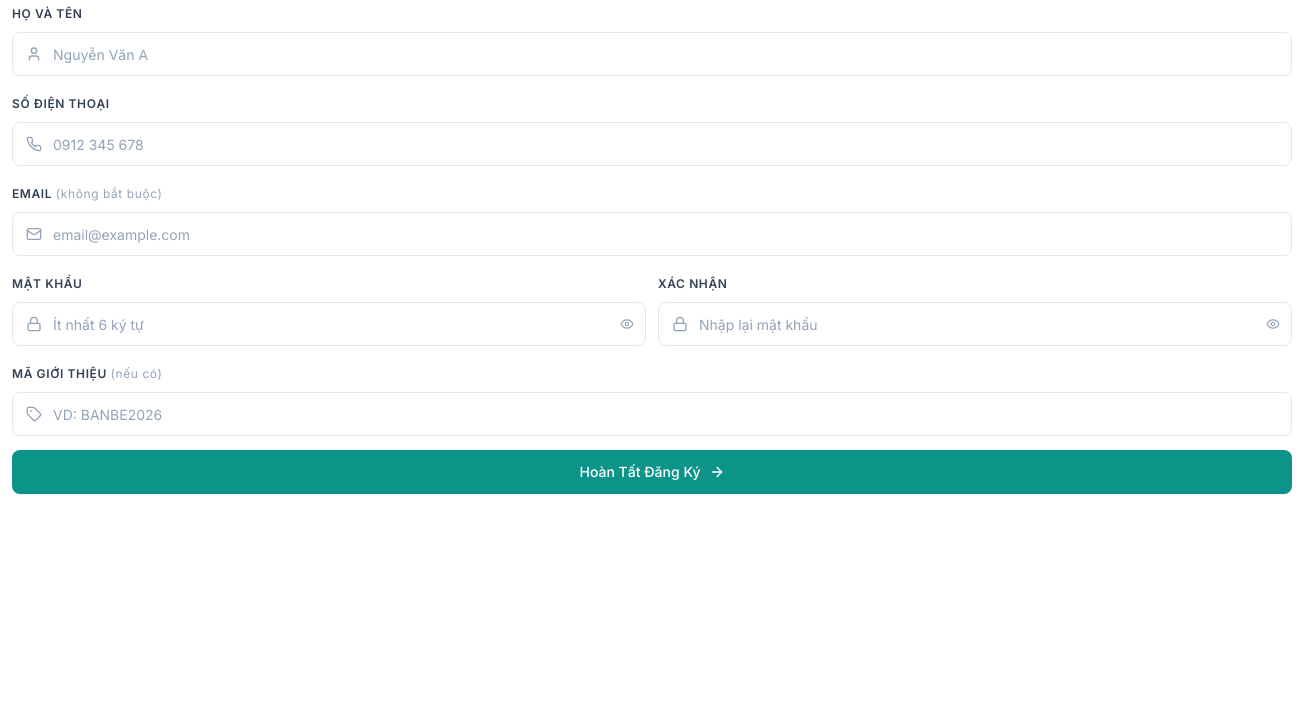
Test: RegisterForm › toggles password visibility between password and text types
Expected: the 1st icon with class "lucide-eye" is shown, x1=620 y1=317 x2=634 y2=331
Click the 1st button named "Hiện mật khẩu". click: (633, 324)
box: x1=620 y1=302 x2=646 y2=346
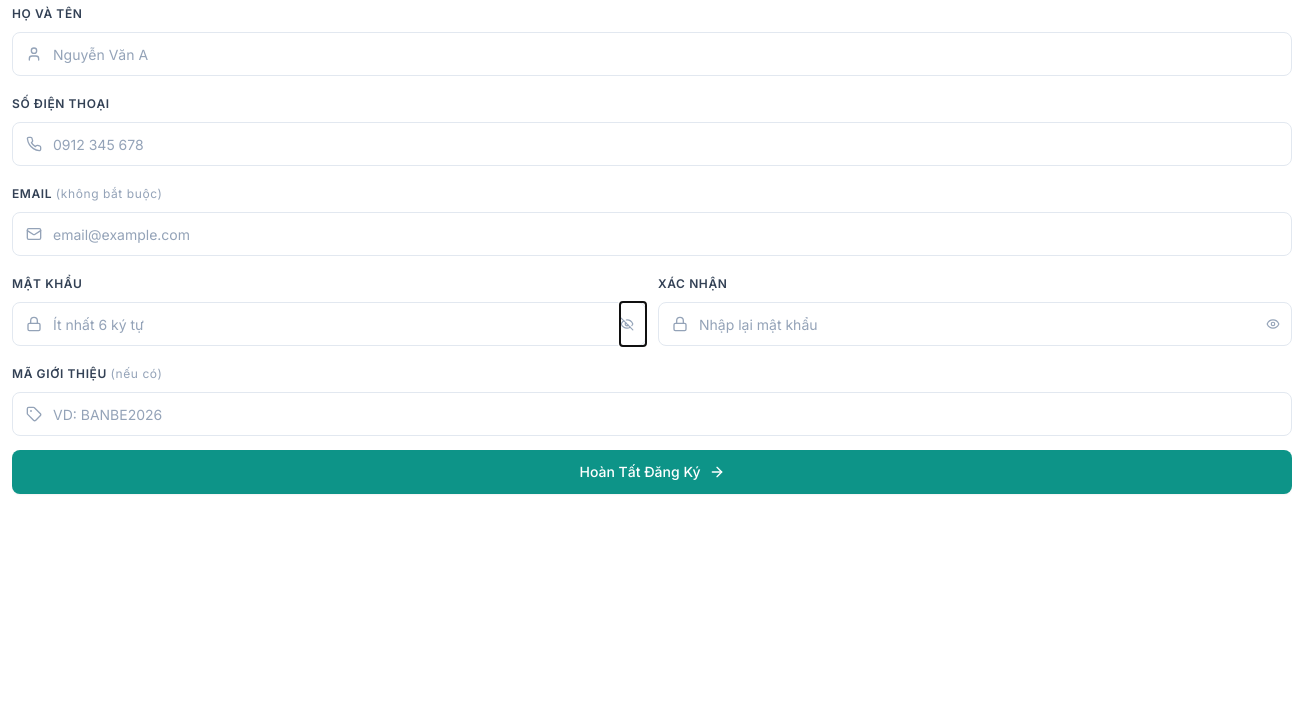
Expected: the icon with class "lucide-eye-off" is shown, x1=620 y1=317 x2=634 y2=331
Click the button named "Ẩn mật khẩu". click: (633, 324)
box: x1=620 y1=302 x2=646 y2=346
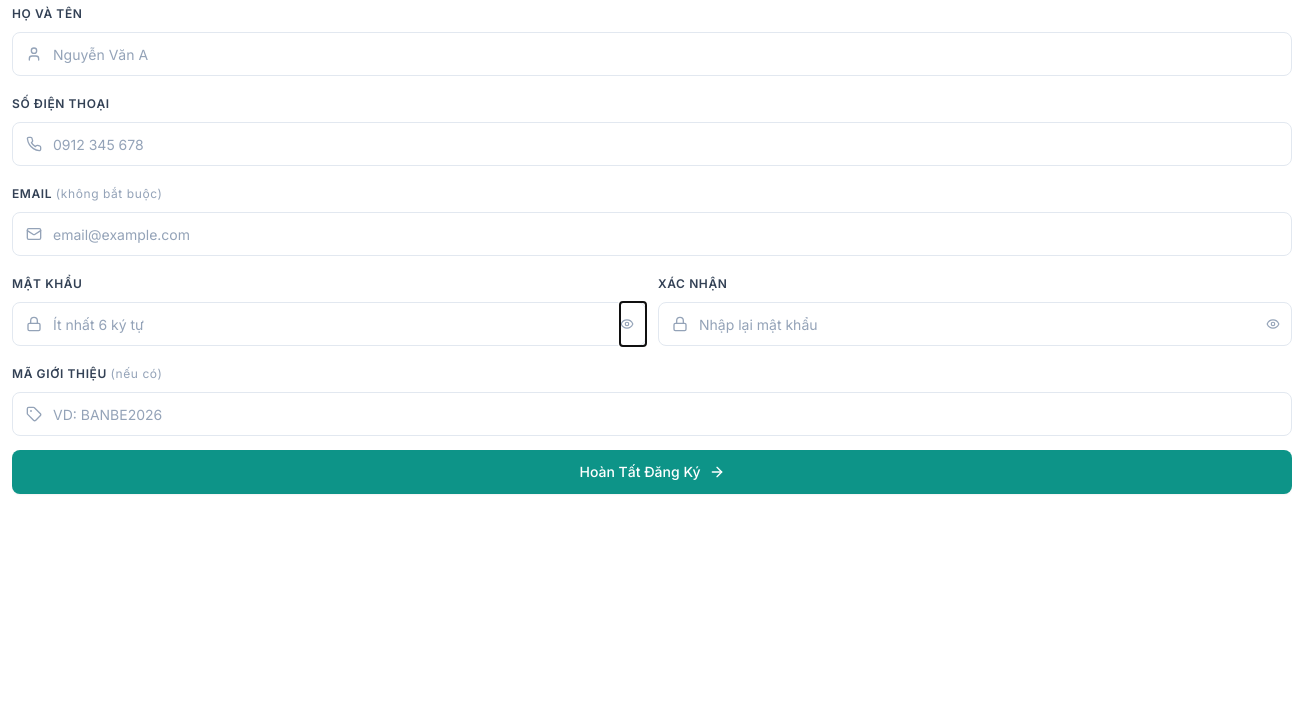
Expected: the 1st icon with class "lucide-eye" is shown, x1=620 y1=317 x2=634 y2=331
Result: the icon with class "lucide-eye-off" is gone
